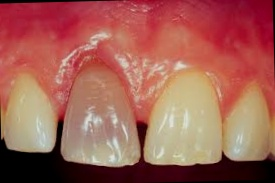Tooth Discoloration: (59, 54, 140, 164)
